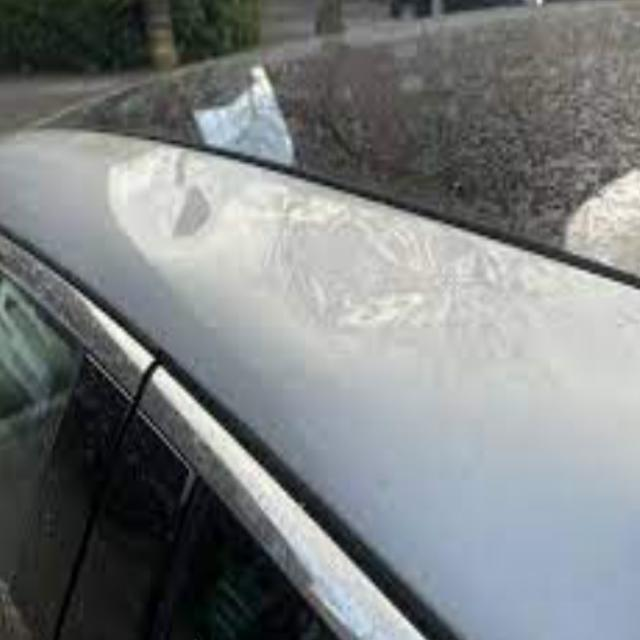dents: (276, 207, 417, 366), (144, 175, 222, 271)
